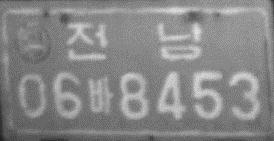0: (17, 72, 48, 119)
3: (228, 71, 262, 122)
4: (155, 70, 186, 120)
5: (192, 70, 223, 121)
6: (52, 71, 82, 120)
8: (119, 70, 150, 120)
바: (87, 76, 113, 116)
영: (14, 21, 55, 66)
전남_D: (63, 21, 206, 64)
